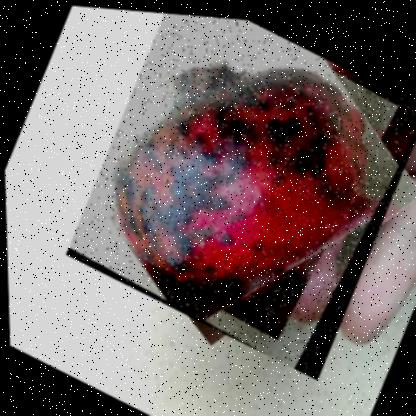pomegranate_rotten: (55, 3, 415, 382)
